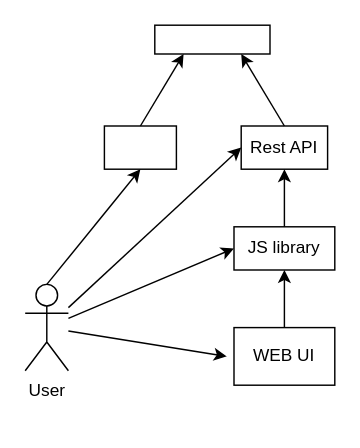
Some shapes in this 360 by 448 pixel diagram are drawn without their labels. Each missing label, with the centre of its shape:
"CLI" goes at (139,147).
"Daemon" goes at (211,39).
